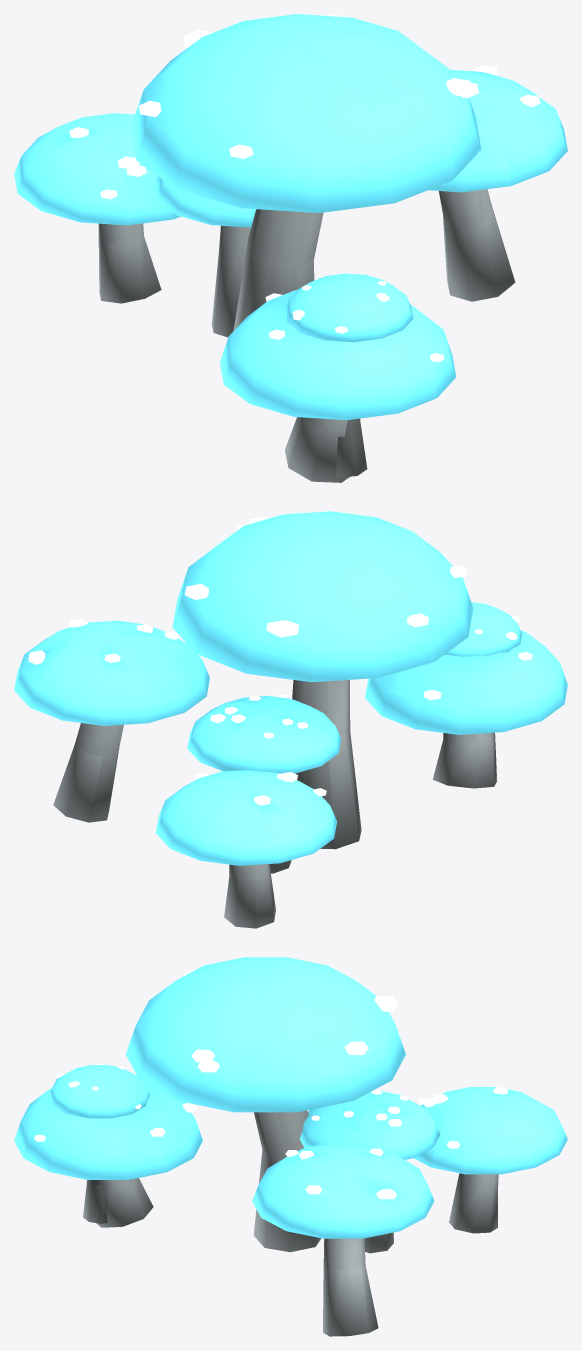
Rendered from obj_deco_hongos_2.glb.
3 views of the same model, one above another, from view 1: azimuth 30°, elevation 25°; view 2: azimuth 150°, elevation 25°; view 3: azimuth 270°, elevation 25° (orthographic). The views are drawn at different scales.
Visible parts, largest first — view 1: propforge-libre-deco_hongos; view 2: propforge-libre-deco_hongos; view 3: propforge-libre-deco_hongos.
Boxes of the visible parts, x1=… form: propforge-libre-deco_hongos: x1=14, y1=14, x2=567, y2=482; propforge-libre-deco_hongos: x1=14, y1=511, x2=567, y2=928; propforge-libre-deco_hongos: x1=14, y1=957, x2=567, y2=1336.
Bounding box in the file's own units: 0.5751 × 0.4118 × 0.7545.
